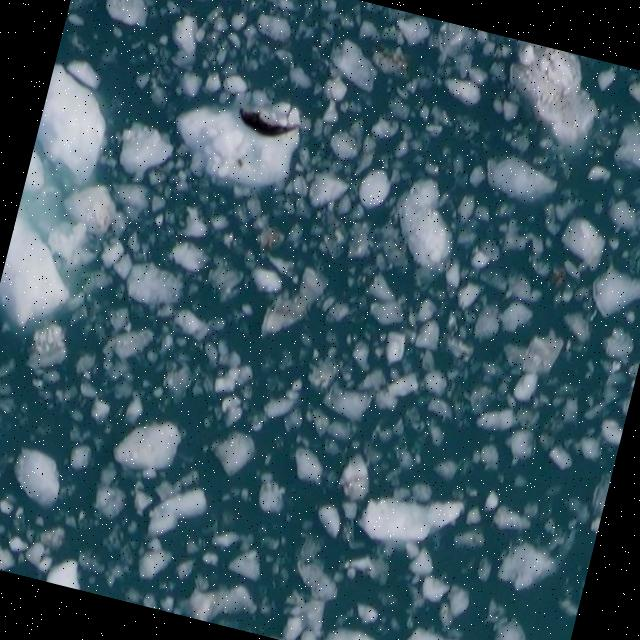seal: (236, 108, 300, 142)
